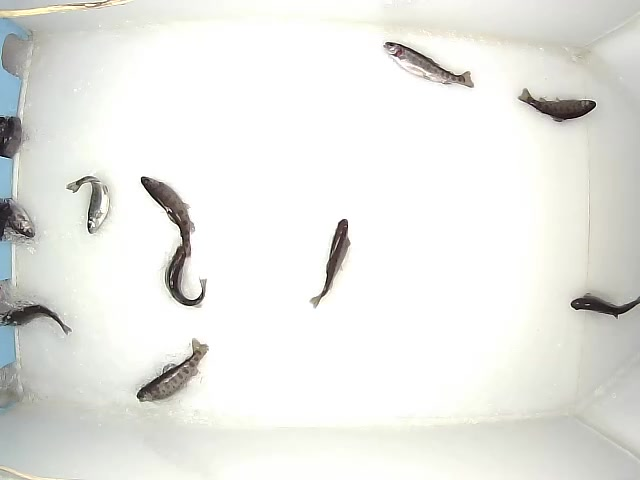fish: (135, 336, 208, 403), (139, 174, 196, 257), (382, 42, 474, 88), (309, 218, 351, 309), (164, 245, 207, 308), (65, 174, 110, 234), (518, 88, 597, 122), (1, 304, 72, 335), (570, 293, 640, 319), (1, 199, 36, 238)
